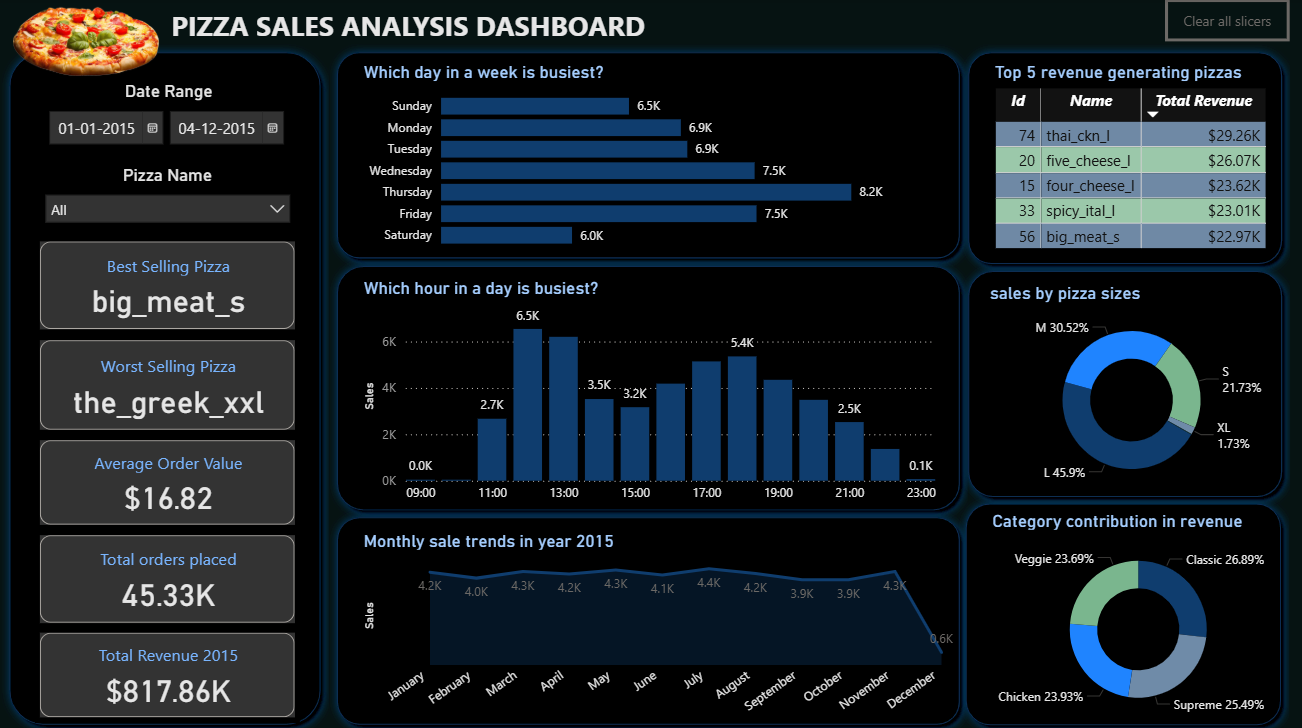

What the dashboard file says about the page in this screenshot:
{"tool":"powerbi","page":{"name":"Page 1","canvas":[1280,720],"ordinal":0},"visuals":[{"type":"shape","box":[322.8,44.5,627.5,218.4],"z":0,"group":"g1"},{"type":"group","id":"g1","title":"shapes","box":[322.8,44.5,943.3,676.2],"z":500},{"type":"areaChart","title":"Monthly sale trends in year 2015","fields":{"Category":["orders.order_datetime.Variation.Date Hierarchy.Month"],"Y":["Sum(orders.quantity)"]},"box":[352,521.7,595.5,192],"z":750},{"type":"shape","box":[322.8,254.6,627.5,256],"z":1000,"group":"g1"},{"type":"shape","box":[322.8,500.8,627.5,219.8],"z":2000,"group":"g1"},{"type":"shape","box":[941.9,44.5,324.2,224],"z":3000,"group":"g1"},{"type":"tableEx","title":"Top 5 revenue generating pizzas","fields":{"Values":["pizzas.pizza_id","vw_highestrevenuepizza.pizza_name_id","Sum(vw_highestrevenuepizza.revenue)"]},"box":[976.7,61.2,269.9,204.5],"z":3000},{"type":"shape","box":[1.4,44.5,321.4,676.2],"z":4000},{"type":"shape","box":[940.5,486.9,325.6,233.7],"z":4000,"group":"g1"},{"type":"shape","box":[941.9,258.8,324.2,237.9],"z":5000,"group":"g1"},{"type":"slicer","title":"Date Range","fields":{"Values":["orders.order_datetime"]},"box":[36.2,72.3,260.2,82.1],"z":5500},{"type":"textbox","box":[1.4,0,1278.6,52.9],"z":5750},{"type":"donutChart","title":"Category contribution in revenue","fields":{"Category":["pizzas.pizza_category"],"Y":["Sum(orders.total_price)"]},"box":[969.3,502,296.3,211.5],"z":6000},{"type":"columnChart","title":"Which hour in a day is busiest?","fields":{"Category":["vw_busyhoursatsales.order_time"],"Y":["Sum(vw_busyhoursatsales.total_orders)"]},"box":[352.4,273.9,573,229.4],"z":7000},{"type":"cardVisual","title":"Best Selling Pizza","fields":{"Data":["Min(vw_bestsellingpizza.pizza_name_id)"]},"box":[34.8,233.7,260.2,96],"z":8000},{"type":"barChart","title":"Which day in a week is busiest?","fields":{"Category":["vw_weekdaypatterns.weekday"],"Y":["Sum(vw_weekdaypatterns.quntity_sold)"]},"box":[352.4,61.7,582.8,192.6],"z":9000},{"type":"cardVisual","title":"Best Selling Pizza","fields":{"Data":["Min(vw_worstsellingpizza.pizza_name_id)"]},"box":[34.8,329.7,260.2,98.8],"z":10000},{"type":"donutChart","title":"sales by pizza sizes","fields":{"Category":["pizzas.pizza_size"],"Y":["Sum(orders.total_price)"]},"box":[966.5,278,288,211.5],"z":11000},{"type":"actionButton","box":[1143.7,0,122.4,41.7],"z":12000},{"type":"cardVisual","title":"Best Selling Pizza","fields":{"Data":["Avg(vw_averageordervalue.average_order_value)"]},"box":[34.8,428.5,260.2,93.2],"z":13000},{"type":"cardVisual","title":"Best Selling Pizza","fields":{"Data":["CountNonNull(orders.order_id)"]},"box":[34.8,521.7,260.2,96],"z":14000},{"type":"cardVisual","title":"Best Selling Pizza","fields":{"Data":["Sum(vw_highestrevenuepizza.revenue)"]},"box":[34.8,617.7,260.2,93.2],"z":15000},{"type":"slicer","title":"Pizza Name","fields":{"Values":["pizzas.pizza_name"]},"box":[34.8,154.4,260.2,80.7],"z":16000},{"type":"image","box":[1.4,0,167,83.5],"z":16001}]}

Visuals, with their boxes in screenshot pixels (x1, y1, x2, y2), scaled from the page's 1280x720 canvas onto the 1302x728 screenshot:
shape: locate(328, 45, 967, 266)
"shapes" group: locate(328, 45, 1288, 727)
"Monthly sale trends in year 2015" areaChart: locate(358, 527, 964, 722)
shape: locate(328, 257, 967, 516)
shape: locate(328, 506, 967, 727)
shape: locate(958, 45, 1288, 271)
"Top 5 revenue generating pizzas" tableEx: locate(993, 62, 1268, 269)
shape: locate(1, 45, 328, 727)
shape: locate(957, 492, 1288, 727)
shape: locate(958, 262, 1288, 502)
"Date Range" slicer: locate(37, 73, 301, 156)
textbox: locate(1, 0, 1301, 53)
"Category contribution in revenue" donutChart: locate(986, 508, 1287, 721)
"Which hour in a day is busiest?" columnChart: locate(358, 277, 941, 509)
"Best Selling Pizza" cardVisual: locate(35, 236, 300, 333)
"Which day in a week is busiest?" barChart: locate(358, 62, 951, 257)
"Best Selling Pizza" cardVisual: locate(35, 333, 300, 433)
"sales by pizza sizes" donutChart: locate(983, 281, 1276, 495)
actionButton: locate(1163, 0, 1288, 42)
"Best Selling Pizza" cardVisual: locate(35, 433, 300, 527)
"Best Selling Pizza" cardVisual: locate(35, 527, 300, 625)
"Best Selling Pizza" cardVisual: locate(35, 625, 300, 719)
"Pizza Name" slicer: locate(35, 156, 300, 238)
image: locate(1, 0, 171, 84)
